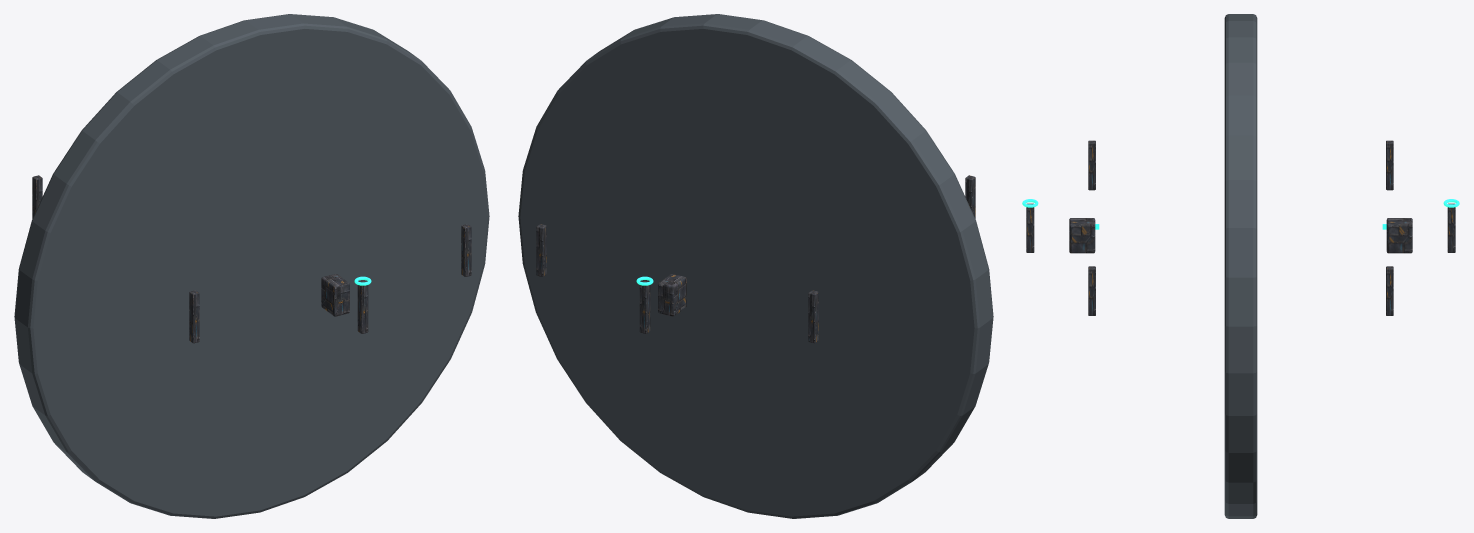
File: resonance_extraction_platform.glb
3 renders of one model, left to right at view 1: azimuth 30°, elevation 25°; view 2: azimuth 150°, elevation 25°; view 3: azimuth 270°, elevation 25°, orthographic. The views are drawn at different scales.
Visible parts, largest first — view 1: Platform/base, Interface/90, Guard/90/post, Guard/135/post, Guard/45/post; view 2: Platform/base, Interface/270, Guard/270/post, Guard/225/post, Guard/315/post; view 3: Platform/base, Interface/90, Interface/270.
Part boxes in pixels (x1,y1,x2,y2): Platform/base: (14, 14, 489, 518); Interface/90: (321, 274, 349, 316); Guard/90/post: (357, 281, 368, 333); Guard/135/post: (189, 290, 199, 343); Guard/45/post: (461, 224, 471, 276); Platform/base: (518, 14, 993, 518); Interface/270: (658, 274, 686, 316); Guard/270/post: (639, 281, 650, 333); Guard/225/post: (808, 290, 818, 343); Guard/315/post: (536, 224, 546, 276); Platform/base: (1224, 14, 1257, 518); Interface/90: (1069, 218, 1095, 253); Interface/270: (1386, 218, 1412, 253).
Size of the model in its own units: 15.6 by 15.6 by 13.5.
4 materials, 1 textured.
